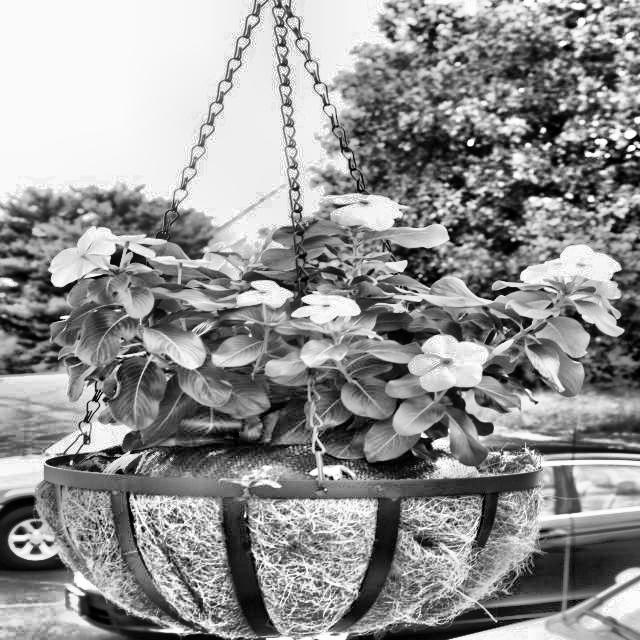plants: (61, 227, 578, 640)
